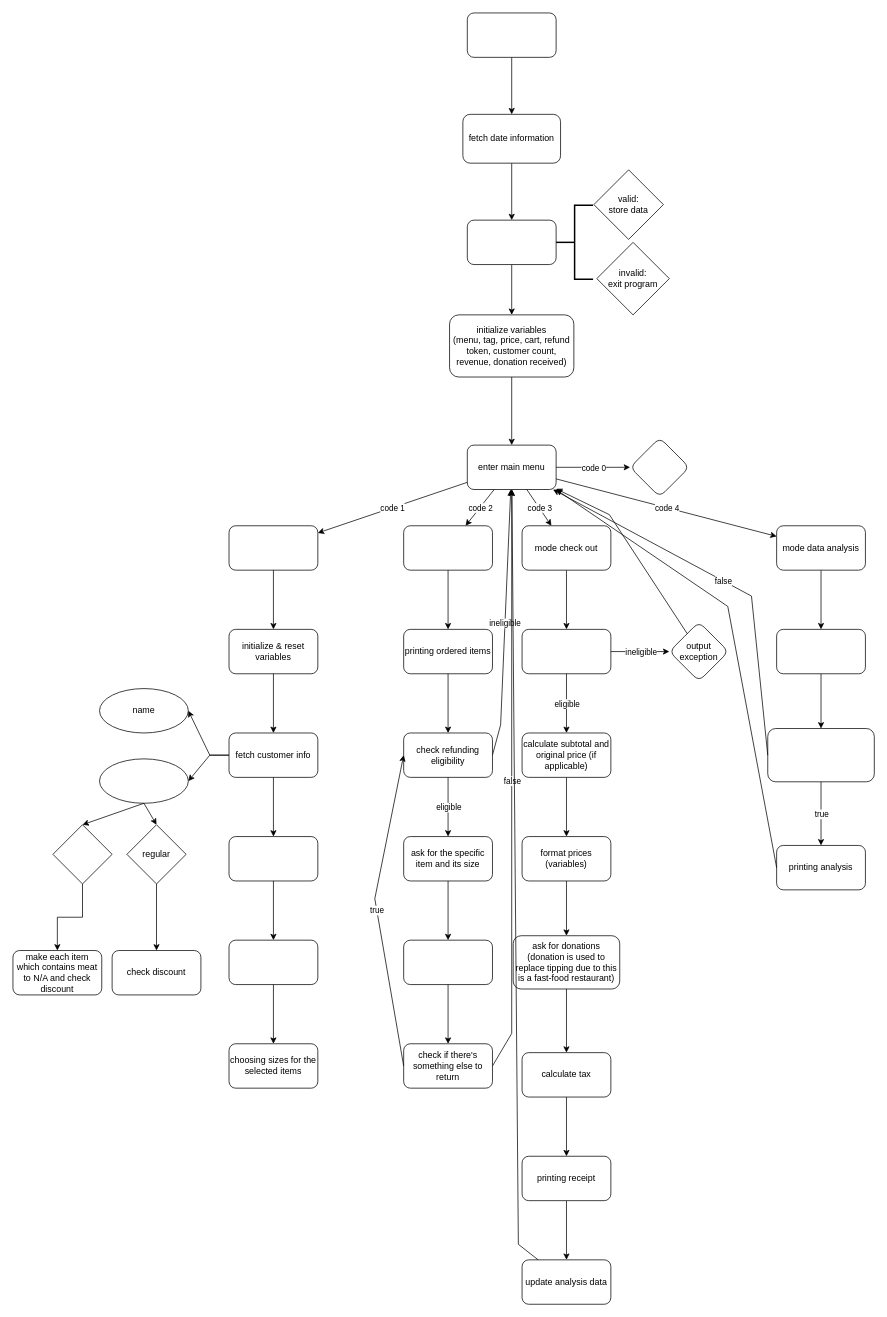
This 887x1317 diagram has some shape labels left out. Each missing label, with the centre of its shape:
check check out eligibility: (x=566, y=651)
check if data analysis is available (depending on if there's customer): (x=820, y=755)
date information validation check: (x=511, y=242)
exit program: (x=659, y=467)
mode purchase: (x=273, y=547)
mode refund: (x=447, y=547)
order confirmation: (x=273, y=962)
printing menu and ask for order: (x=273, y=858)
printing title: (x=820, y=651)
program start: (x=511, y=34)
removing requested orders: (x=447, y=962)
specifications: (x=143, y=780)
veggie: (x=82, y=854)
